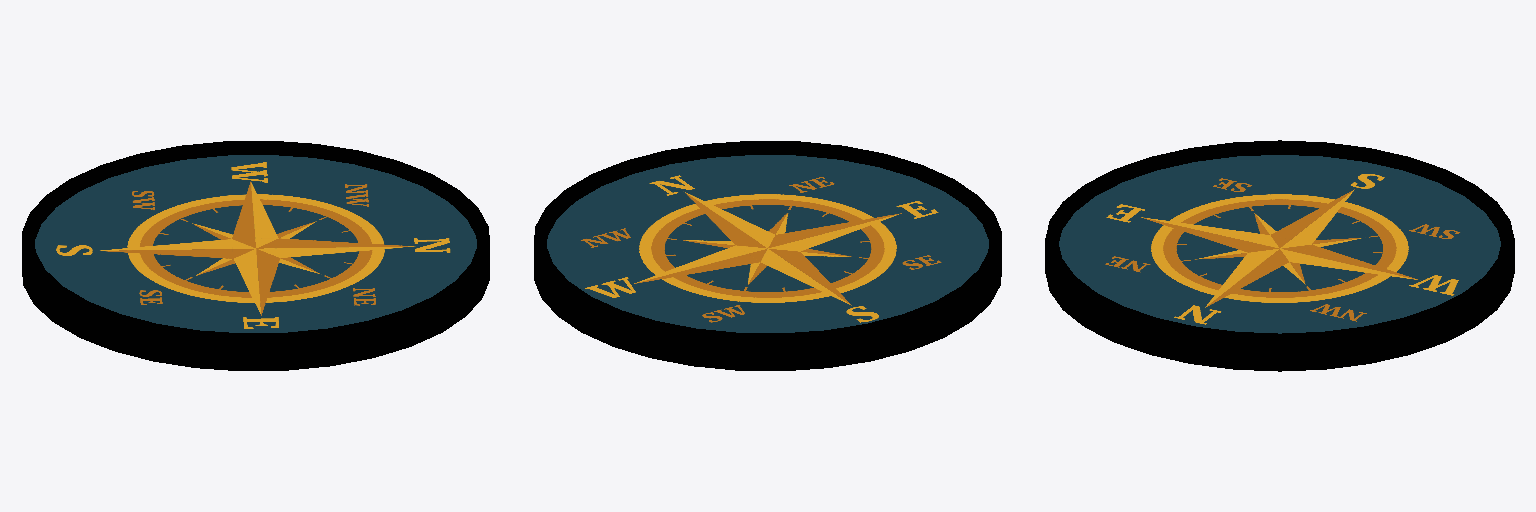
3 views of the same model, side by side, from view 1: azimuth 30°, elevation 25°; view 2: azimuth 150°, elevation 25°; view 3: azimuth 270°, elevation 25° (orthographic).
Parts seen in each view (by area): view 1: Cylinder_Material.021, Cylinder_Material.016; view 2: Cylinder_Material.021, Cylinder_Material.016; view 3: Cylinder_Material.021, Cylinder_Material.016.
Boxes of the visible parts, box(x1,y1,x2,y2) form: Cylinder_Material.021: box(35, 155, 476, 332); Cylinder_Material.016: box(22, 141, 489, 370); Cylinder_Material.021: box(547, 155, 988, 332); Cylinder_Material.016: box(534, 141, 1001, 370); Cylinder_Material.021: box(1059, 155, 1500, 333); Cylinder_Material.016: box(1045, 140, 1514, 371).
Size of the model in its own units: 2 by 0.1535 by 2.
Materials: 2 (1 with a texture image).